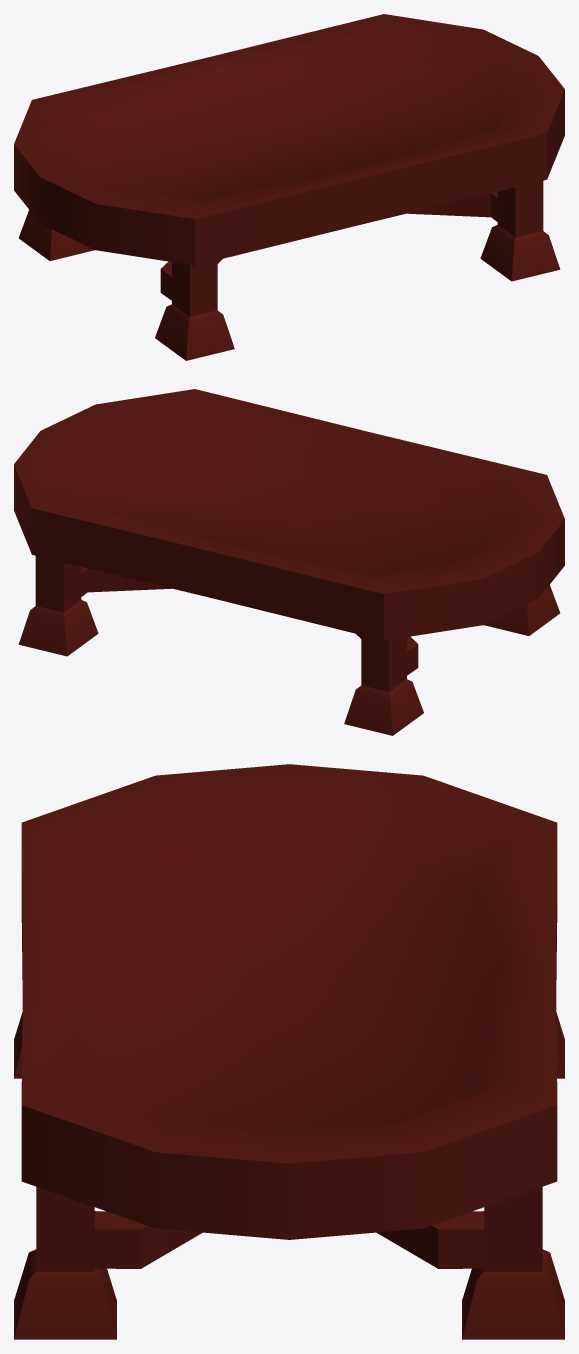
File: SM_CoffeeTable_B.fbx
3 renders of one model, top to bottom at view 1: azimuth 30°, elevation 25°; view 2: azimuth 150°, elevation 25°; view 3: azimuth 270°, elevation 25°, orthographic. The views are drawn at different scales.
Parts seen in each view (by area): view 1: SM_CoffeeTable_B; view 2: SM_CoffeeTable_B; view 3: SM_CoffeeTable_B.
Part boxes in pixels (<box>): SM_CoffeeTable_B: <box>14,14,564,360</box>; SM_CoffeeTable_B: <box>14,389,564,735</box>; SM_CoffeeTable_B: <box>14,764,564,1339</box>.
Bounding box in the file's own units: 202 × 53.11 × 117.
